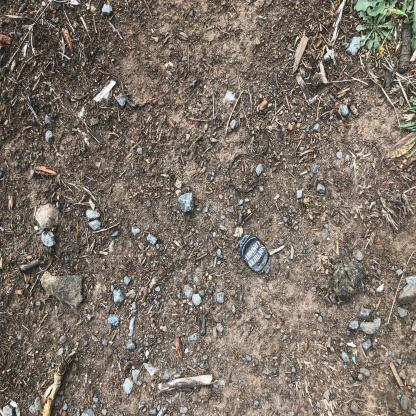Metal: (239, 233, 270, 274)
Waste: (94, 80, 115, 102), (352, 357, 356, 364)
